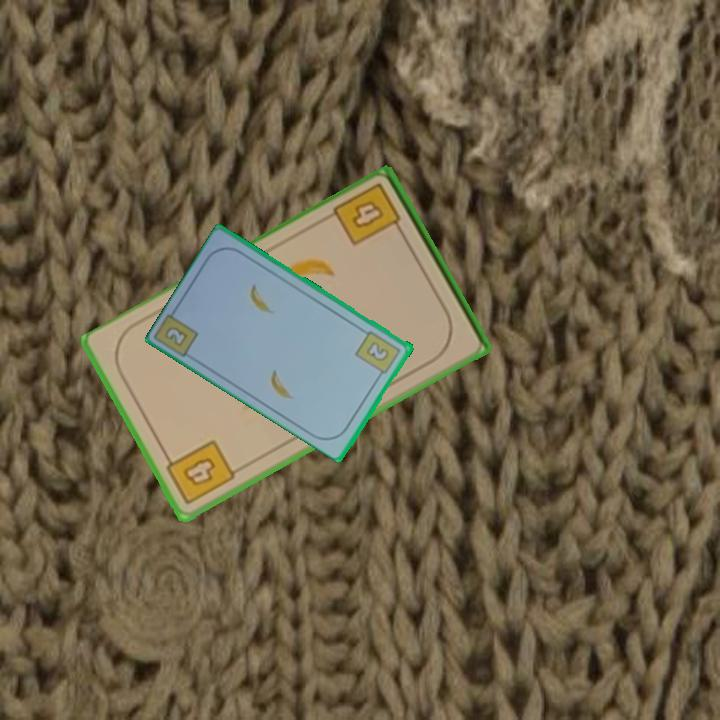2b: (352, 327, 404, 381), (161, 323, 191, 349)
4b: (160, 436, 238, 508), (330, 179, 408, 250)
